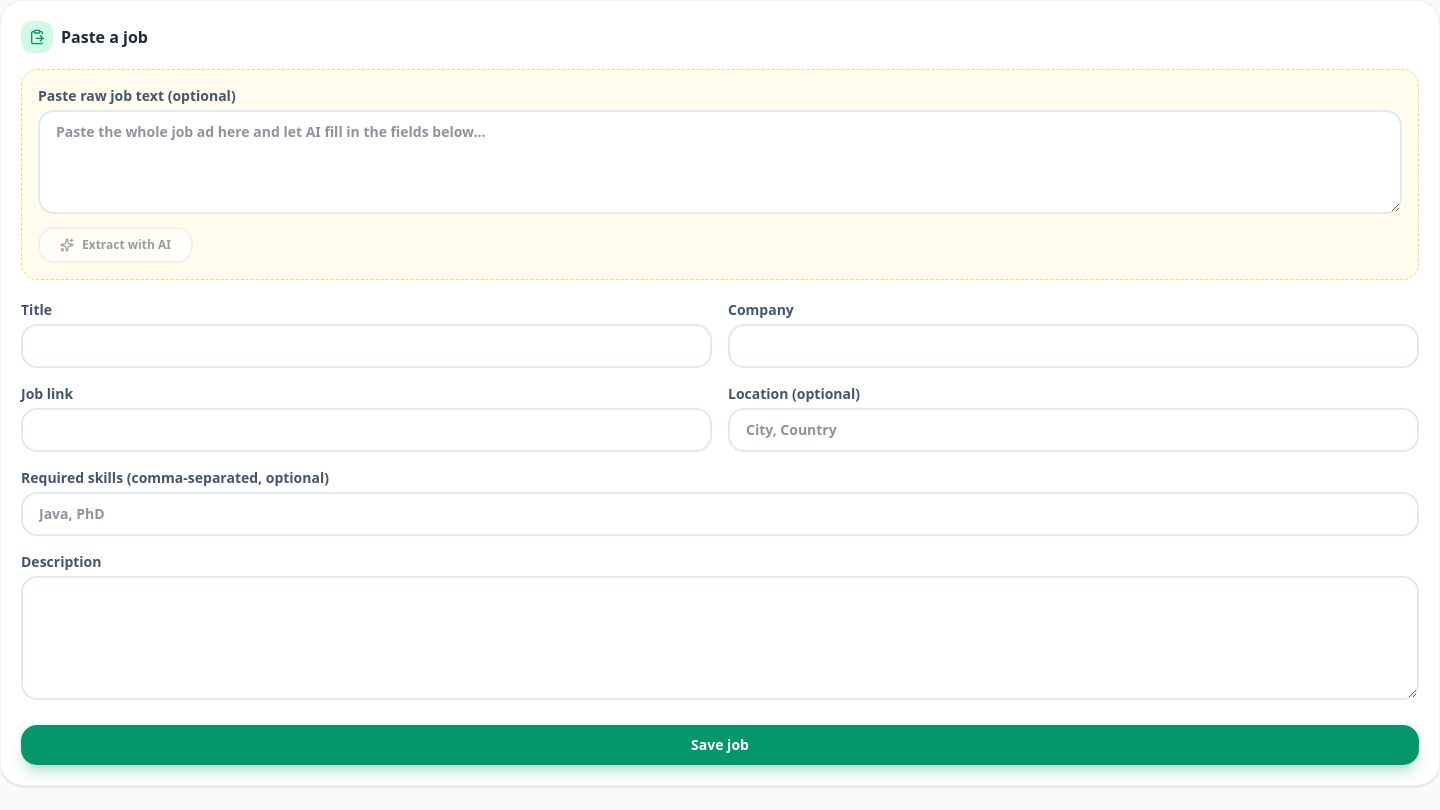
Scenario: PasteJobForm › extracts fields from pasted text via AI when a key is configured
Type "Backend Engineer at Acme Inc, remote..." into the text box labelled "Paste raw job text (optional)".
click(720, 162); type("Backend Engineer at Acme Inc, remote...")  # box x1=38 y1=110 x2=1402 y2=214
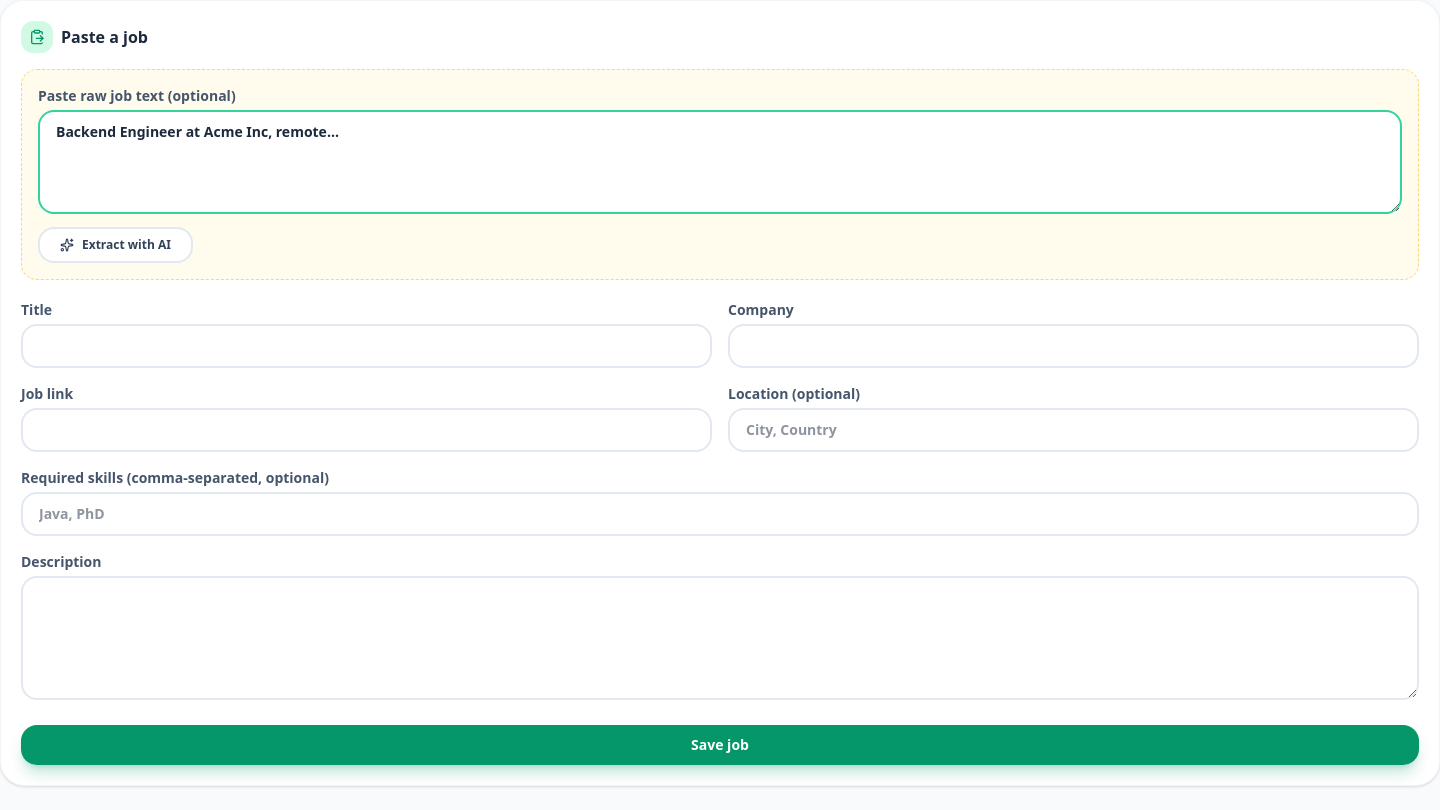
Click the button "Extract with AI".
click(115, 245)  # box x1=38 y1=227 x2=193 y2=263
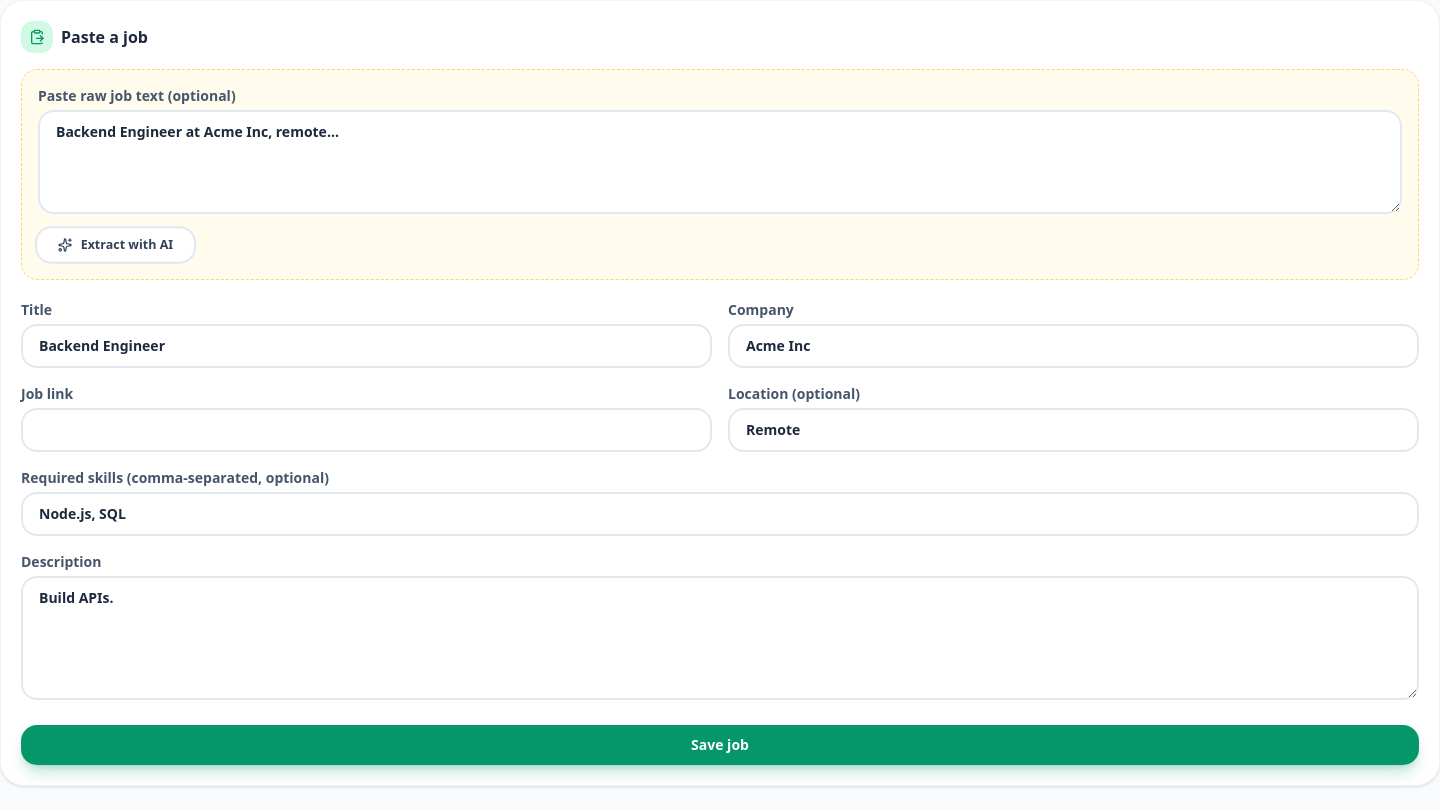
Check: the field labelled "Title" holds "Backend Engineer", box x1=21 y1=324 x2=712 y2=368
Check: the field labelled "Company" holds "Acme Inc", box x1=728 y1=324 x2=1419 y2=368
Check: the field labelled "Location (optional)" holds "Remote", box x1=728 y1=408 x2=1419 y2=452
